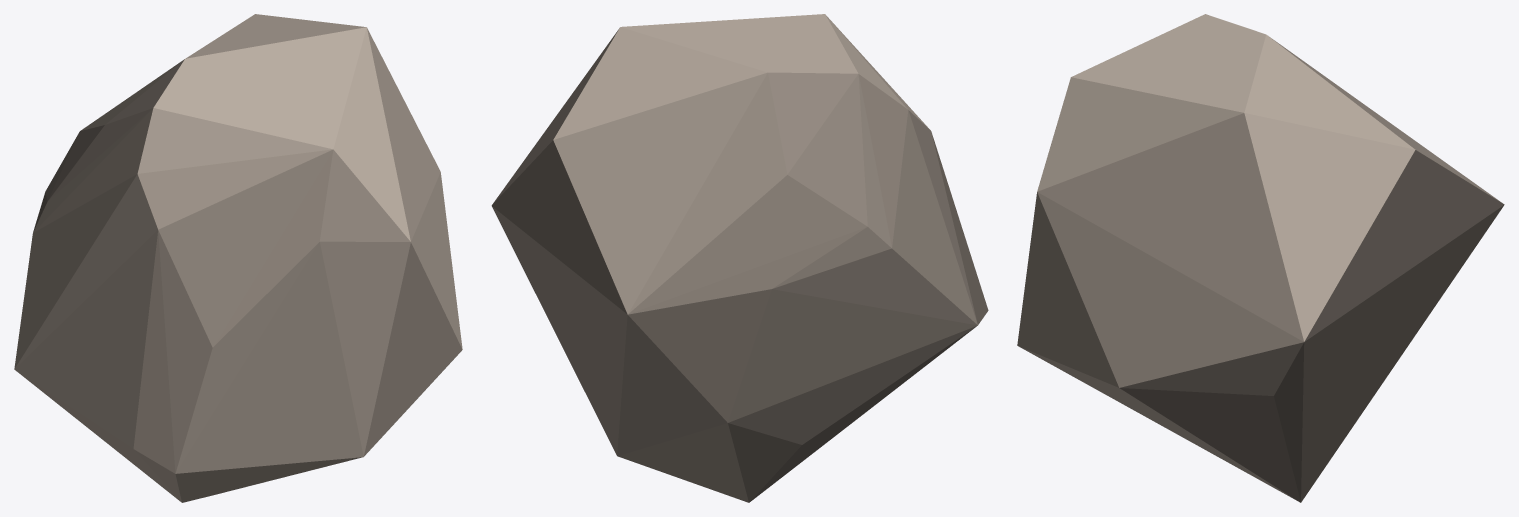
File: rock.glb
The picture shows the model from 3 angles, left to right: view 1: azimuth 30°, elevation 25°; view 2: azimuth 150°, elevation 25°; view 3: azimuth 270°, elevation 25°; orthographic projection. The views are drawn at different scales.
Visible parts, largest first — view 1: Rock; view 2: Rock; view 3: Rock.
Part boxes in pixels (x1,y1,x2,y2): Rock: [14, 14, 462, 502]; Rock: [491, 14, 988, 502]; Rock: [1017, 14, 1504, 502].
Size of the model in its own units: 2.17 by 1.99 by 2.07.
